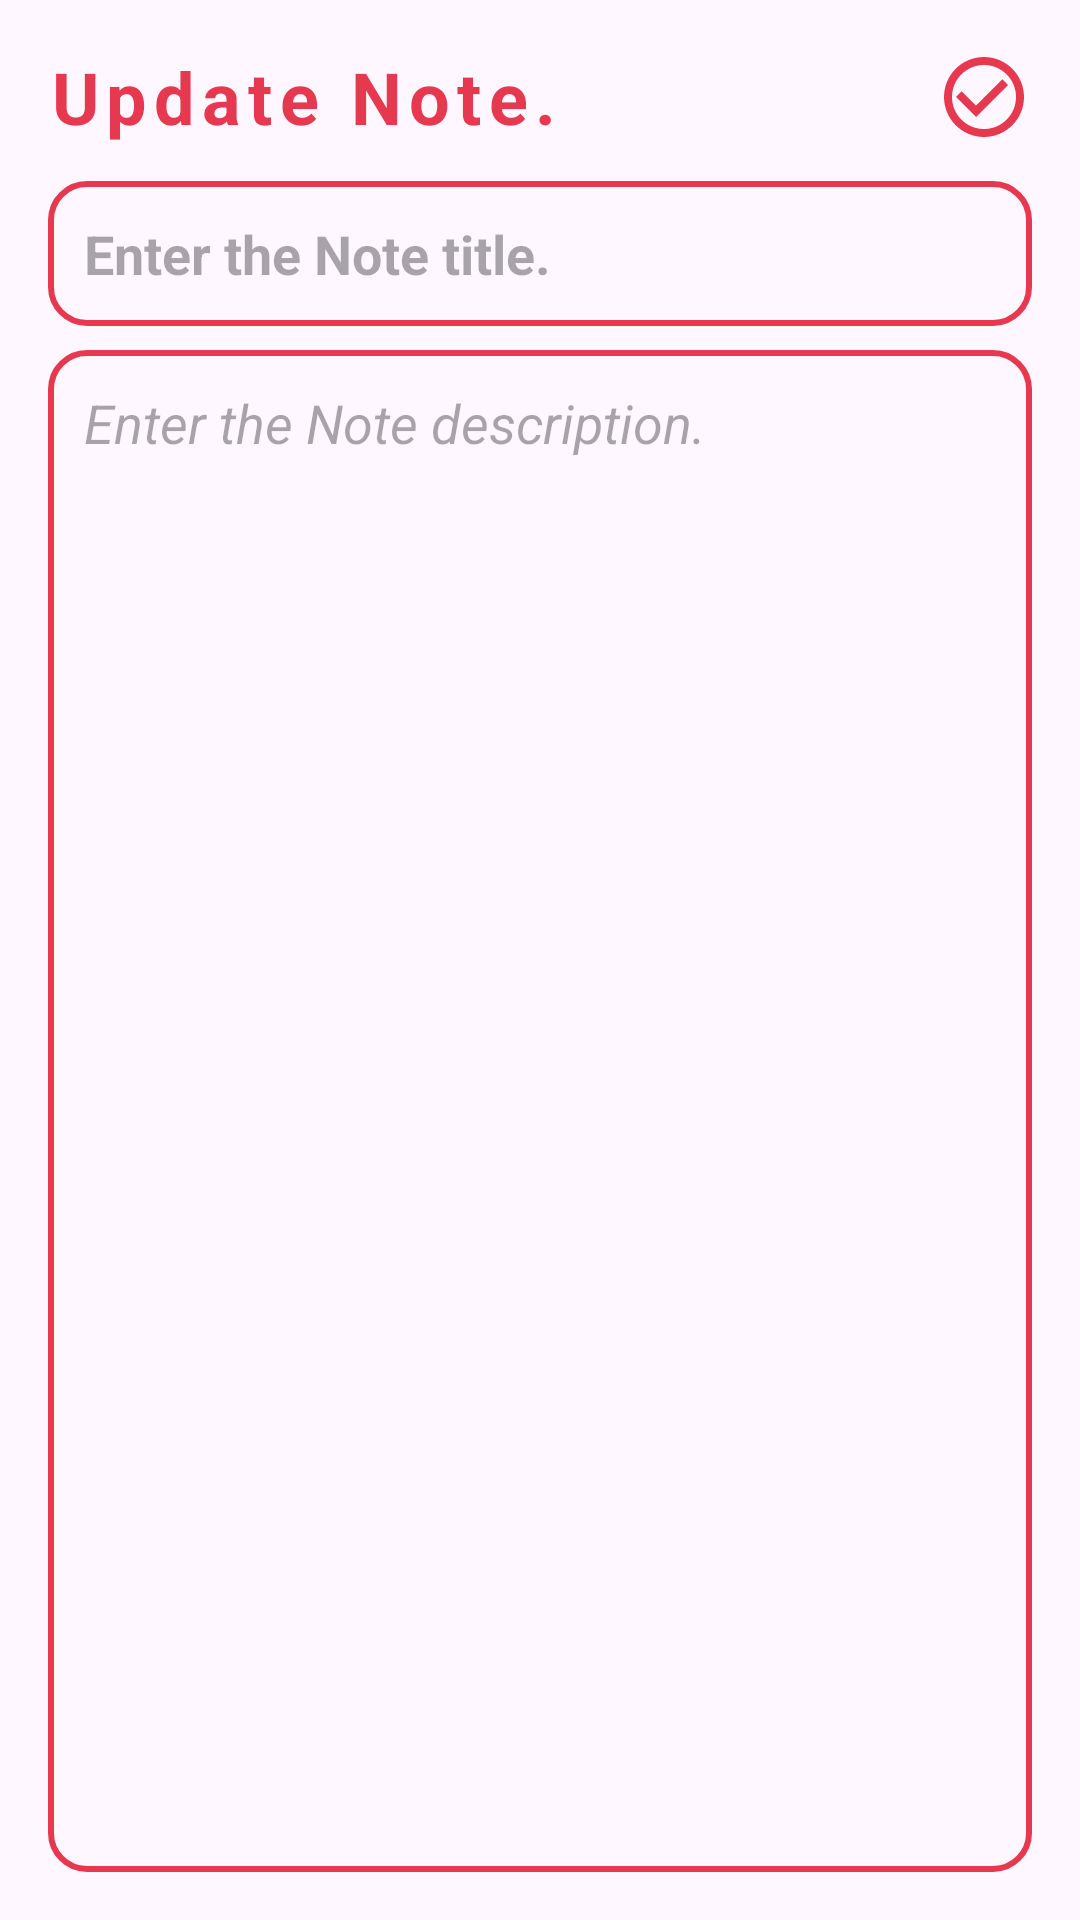

Point at icon controls on the screen. Image size 1080×1920, points as (x=x, y=y).
save: (x=984, y=97)
